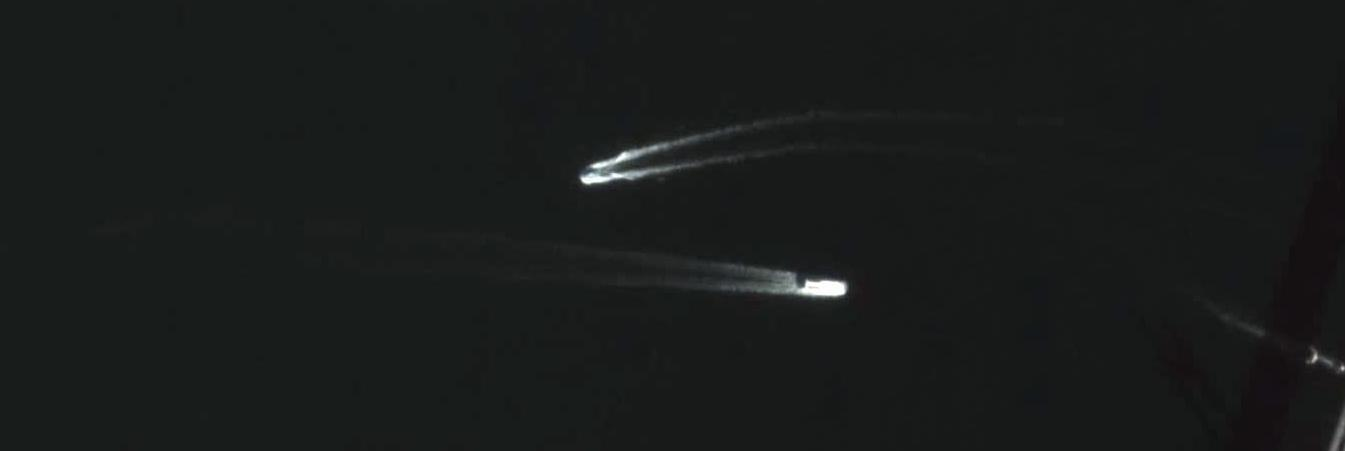person: (803, 279, 846, 298), (578, 166, 603, 177)
